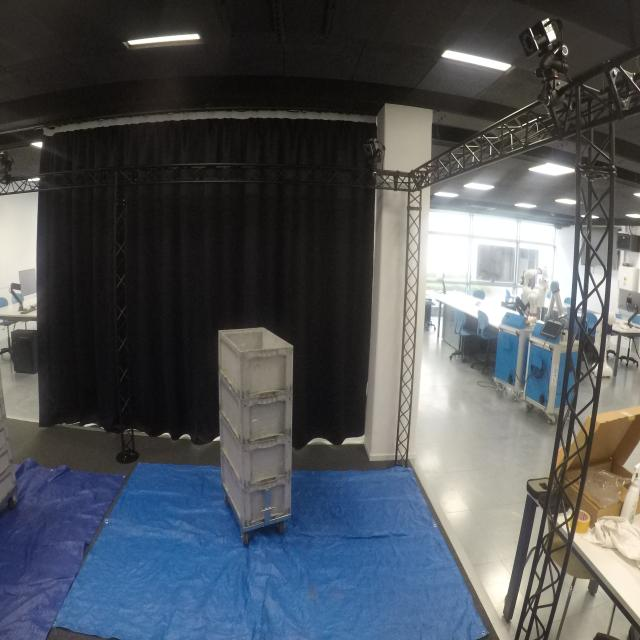Box4G: (216, 410, 295, 491), (219, 446, 294, 530), (216, 369, 295, 447), (217, 325, 294, 400)
